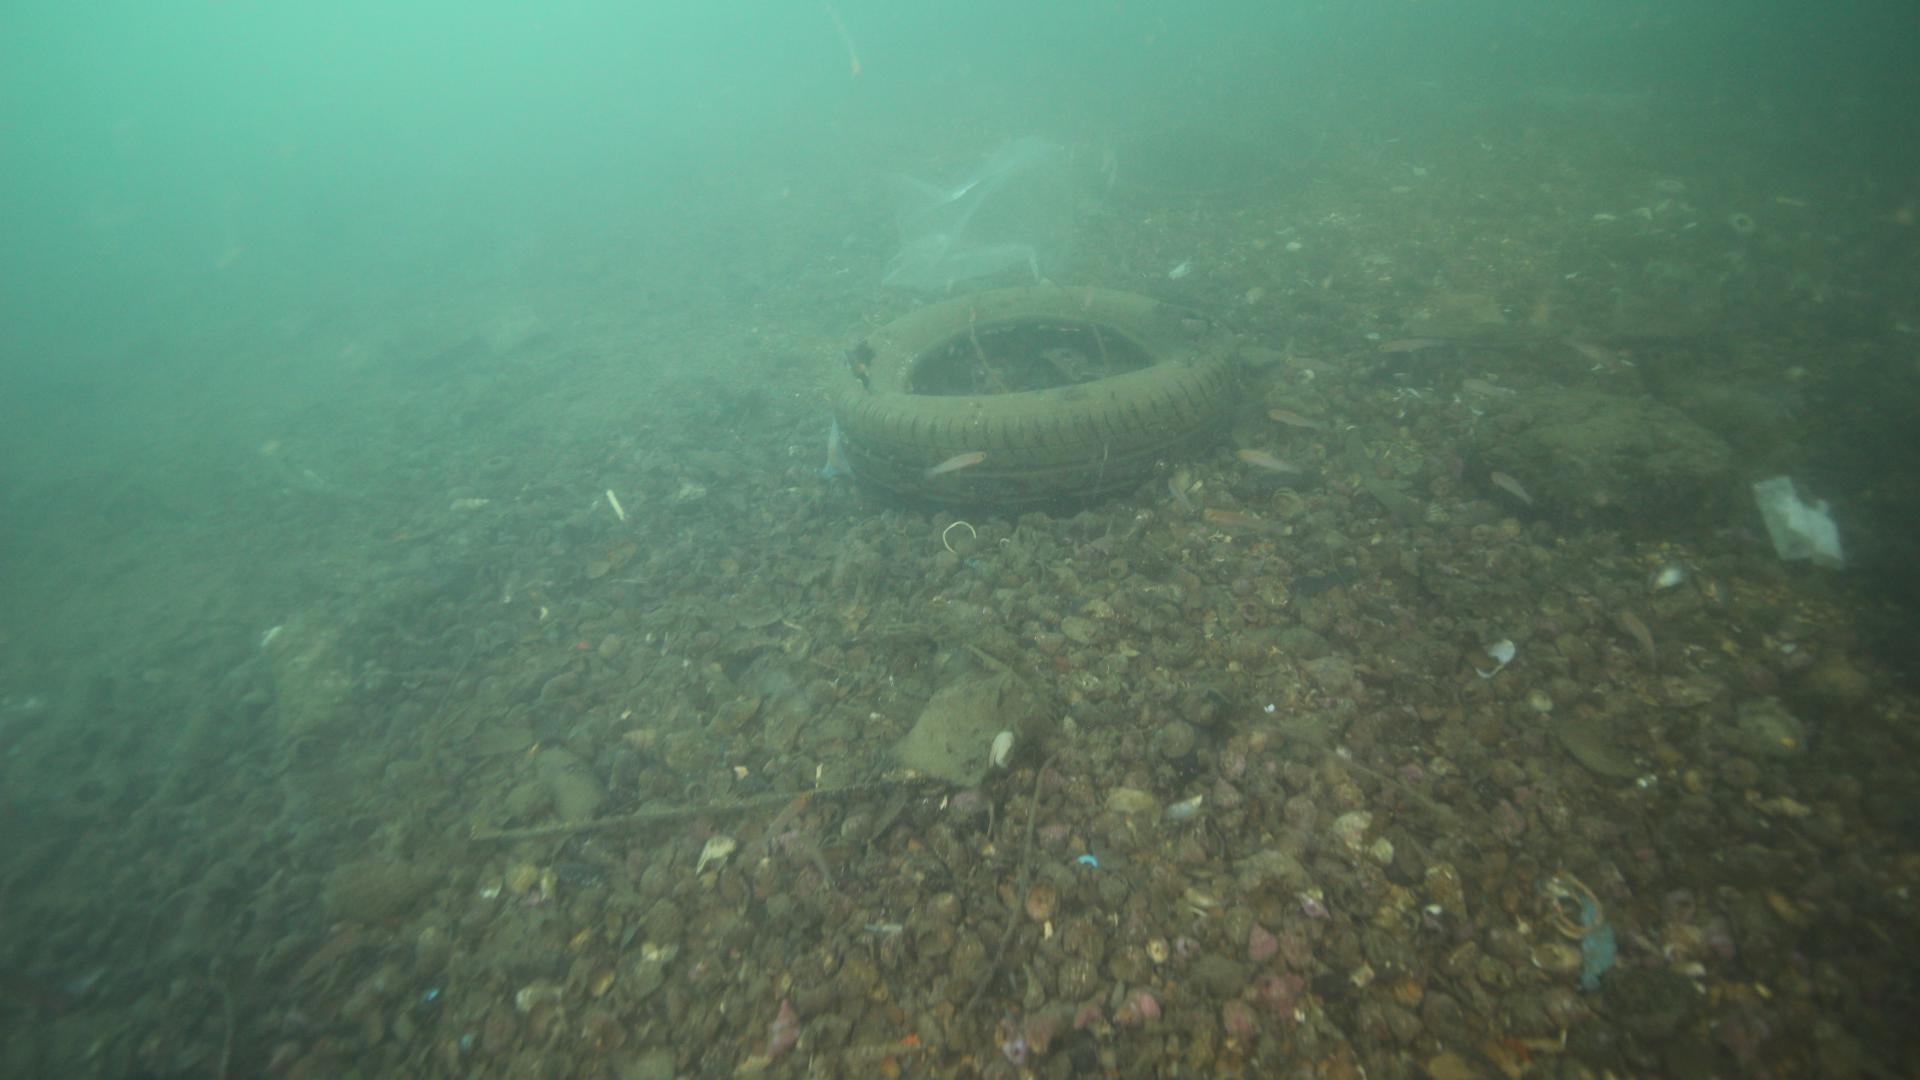tire: (839, 291, 1232, 510)
